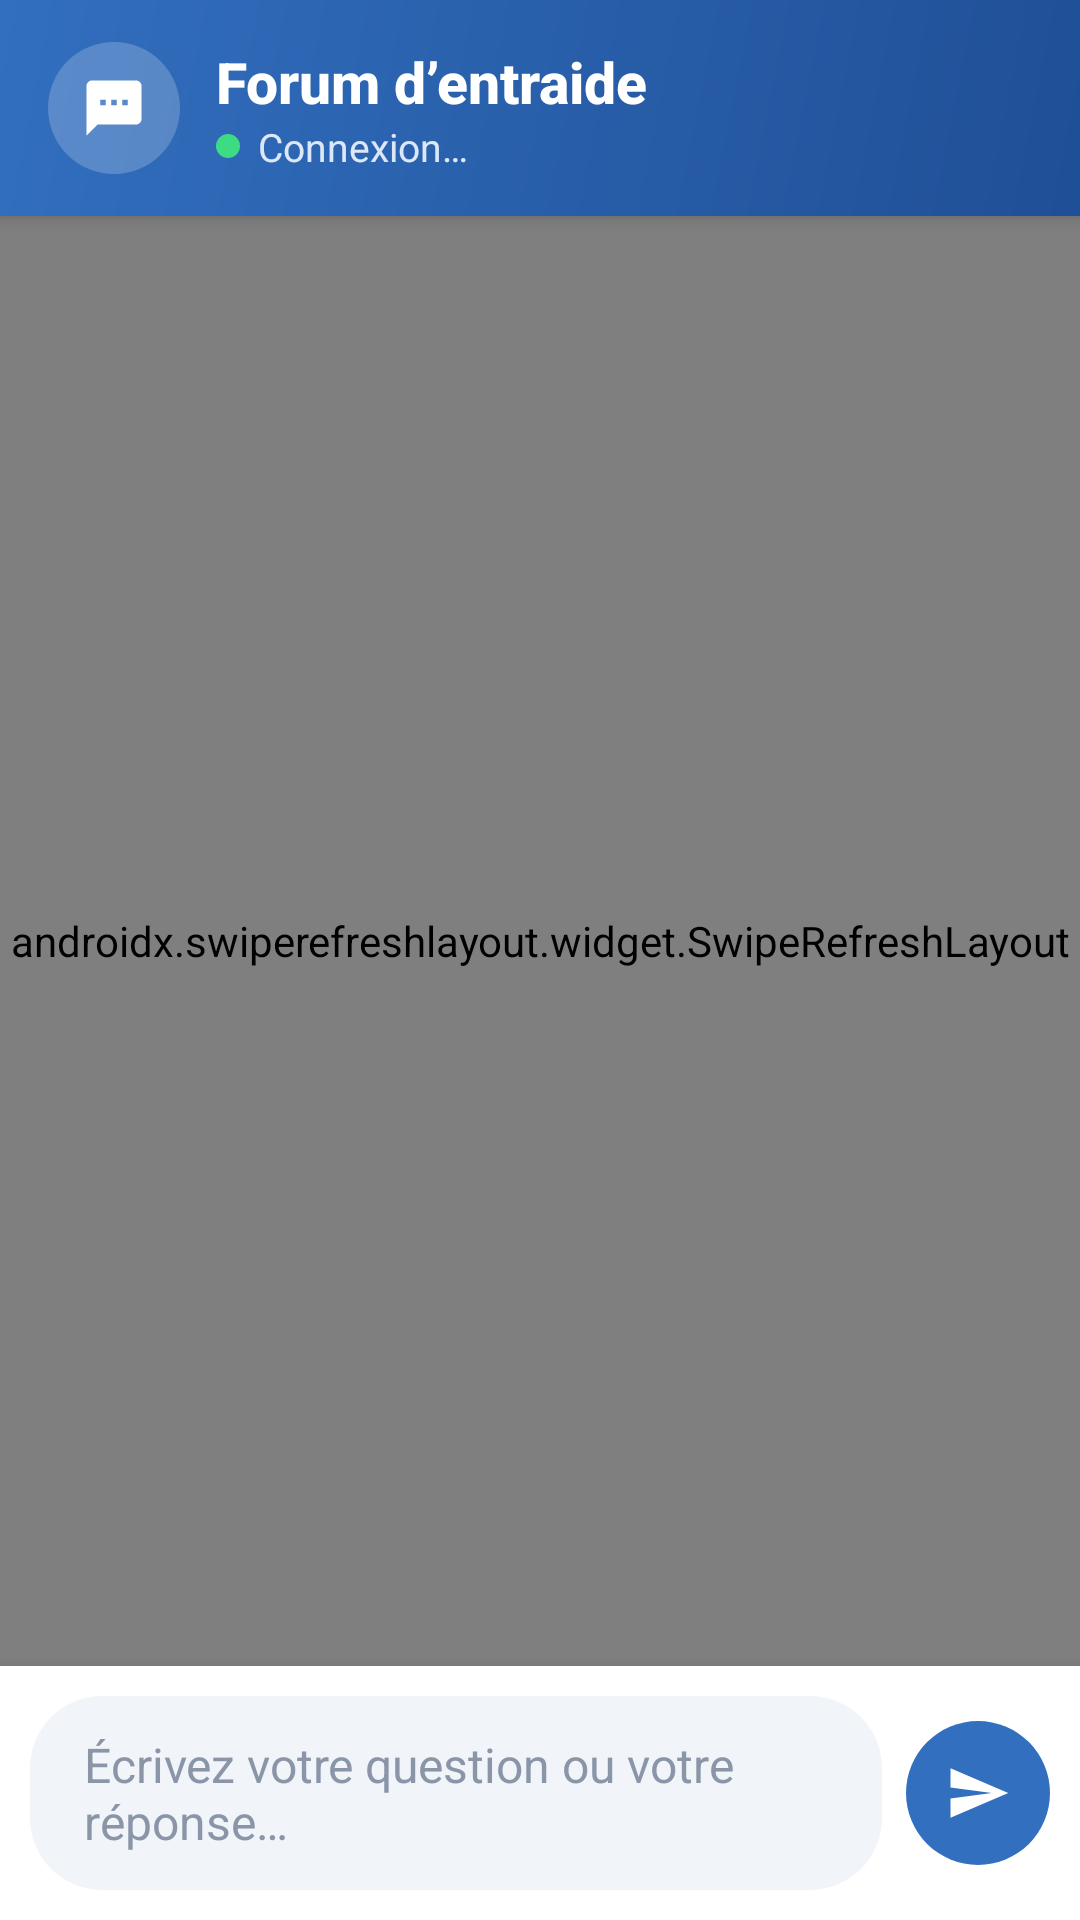

Locate icon controls on the screen. Image size 1080px x 1920px, boxes as (x1,y1,x2,y2).
Envoyer: (906,1721,1050,1865)
